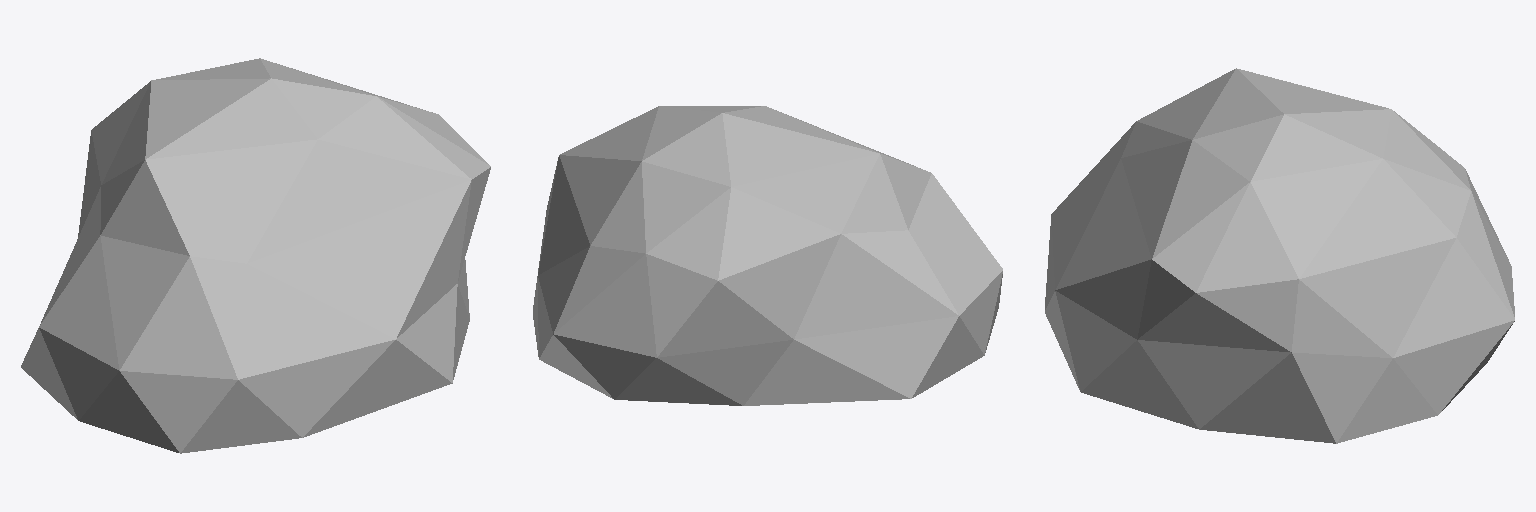
URDF robot description (bigrock):
<?xml version="1.0" ?>
<robot name="bigrock">
  <link name="baseLink">

    <visual>
      <origin rpy="0 0 0" xyz="0 0 0.0"/> 
      <geometry>
        <mesh filename="bigrock.obj" scale="1 1 1"/>
      </geometry>
      <material name="gray">
        <color rgba="0.753 0.753 0.753 1.0"/>
      </material>
    </visual>
    
    <collision>
      <origin rpy="0 0 0" xyz="0 0 0.0"/> 
      <geometry>
        <mesh filename="bigrock.obj" scale="1 1 1"/>
      </geometry>
    </collision>

    <inertial>
      <mass value="0.0"/> <origin rpy="0 0 0" xyz="0 0 0.0"/>
      <inertia ixx="0" ixy="0" ixz="0" iyy="0" iyz="0" izz="0"/>
    </inertial>

  </link>
</robot>

--- Facts derived from the render (not from the file) ---
3 views of the same robot in one strip: view 1: azimuth 30°, elevation 25°; view 2: azimuth 150°, elevation 25°; view 3: azimuth 270°, elevation 25° (orthographic).
Model bigrock with 1 links and 0 joints (none), rooted at baseLink, posed every joint at zero.
Visible links, largest first — view 1: baseLink; view 2: baseLink; view 3: baseLink.
Boxes of the visible links, x1,y1,x2,y2 form: baseLink: (21, 58, 490, 453); baseLink: (533, 106, 1002, 405); baseLink: (1045, 68, 1514, 443).
Size in the robot's own frame: 6.4 by 6.08 by 3.44 metres.
1 mesh visuals loaded from 1 distinct referenced files (1 OBJ).
